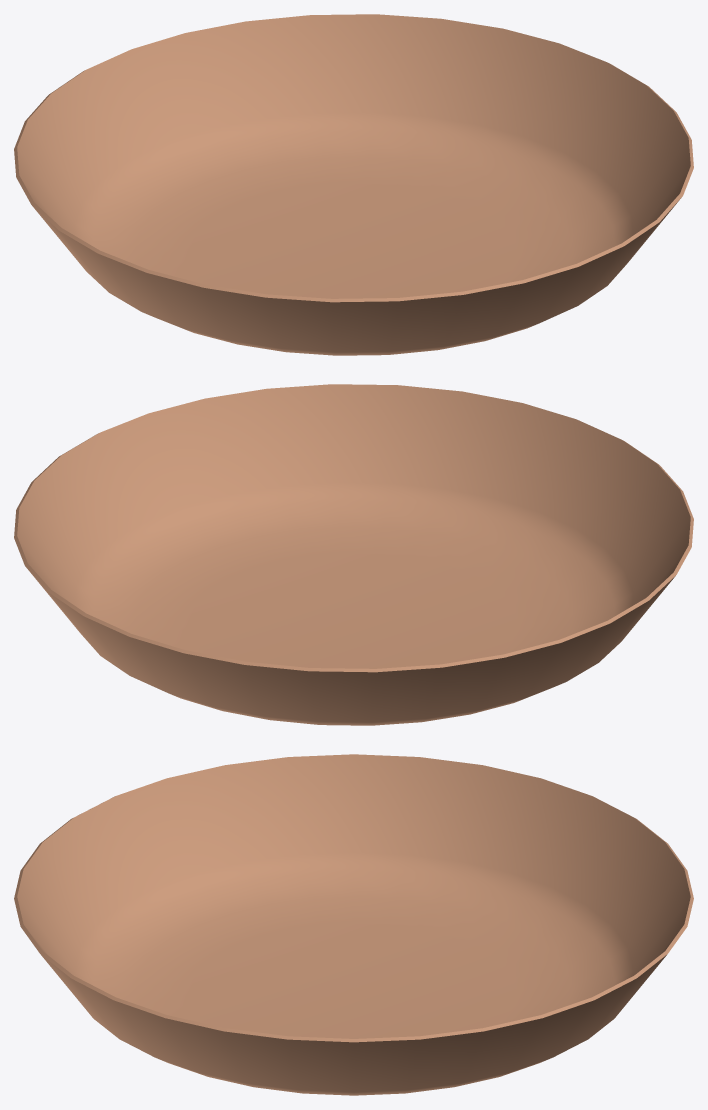
File: piring.fbx
3 renders of one model, top to bottom at view 1: azimuth 30°, elevation 25°; view 2: azimuth 150°, elevation 25°; view 3: azimuth 270°, elevation 25°, orthographic.
Visible parts, largest first — view 1: Cylinder.050; view 2: Cylinder.050; view 3: Cylinder.050.
Boxes of the visible parts, x1,y1,x2,y2 form: Cylinder.050: (14, 14, 693, 355); Cylinder.050: (14, 384, 693, 725); Cylinder.050: (14, 754, 693, 1095).
Bounding box in the file's own units: 1254 × 203 × 1254.
